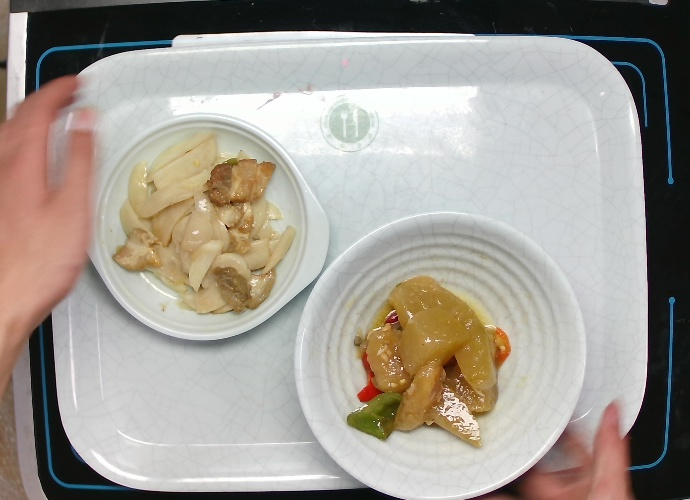JYsf-Shuang_Er_Pan: (94, 104, 339, 350)
JYsf-Xiao_Tang_Wan: (285, 204, 585, 500)
